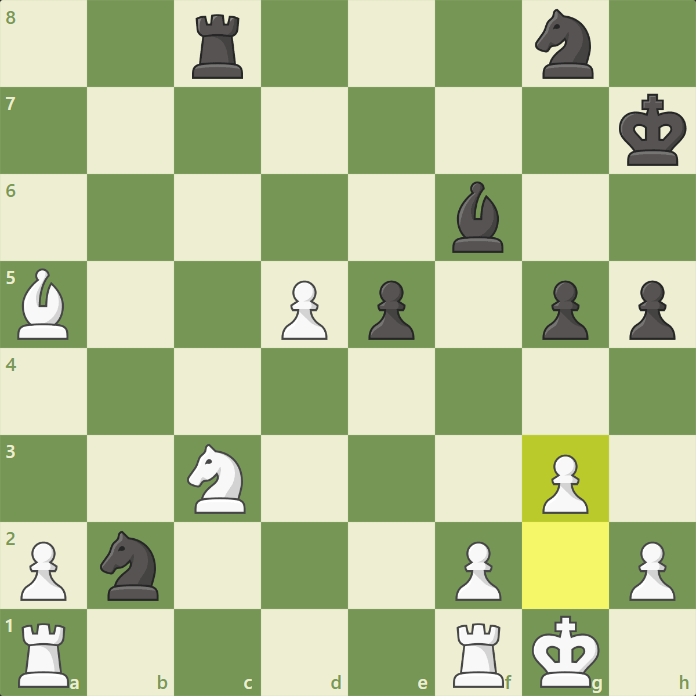B: (14, 266, 72, 343)
K: (529, 614, 603, 692)
N: (184, 442, 249, 518)
P: (450, 538, 505, 604), (536, 452, 591, 518), (623, 539, 678, 605), (15, 538, 70, 604), (278, 277, 329, 343)
R: (16, 620, 72, 690), (450, 621, 506, 691)
b: (449, 178, 509, 257)
k: (617, 91, 689, 169)
n: (98, 529, 164, 605), (532, 6, 598, 82)
p: (537, 276, 593, 345), (623, 273, 679, 342), (365, 276, 417, 343)
r: (188, 10, 247, 83)
